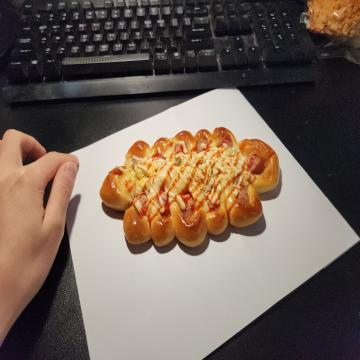pizza_bread: (100, 127, 282, 250)
